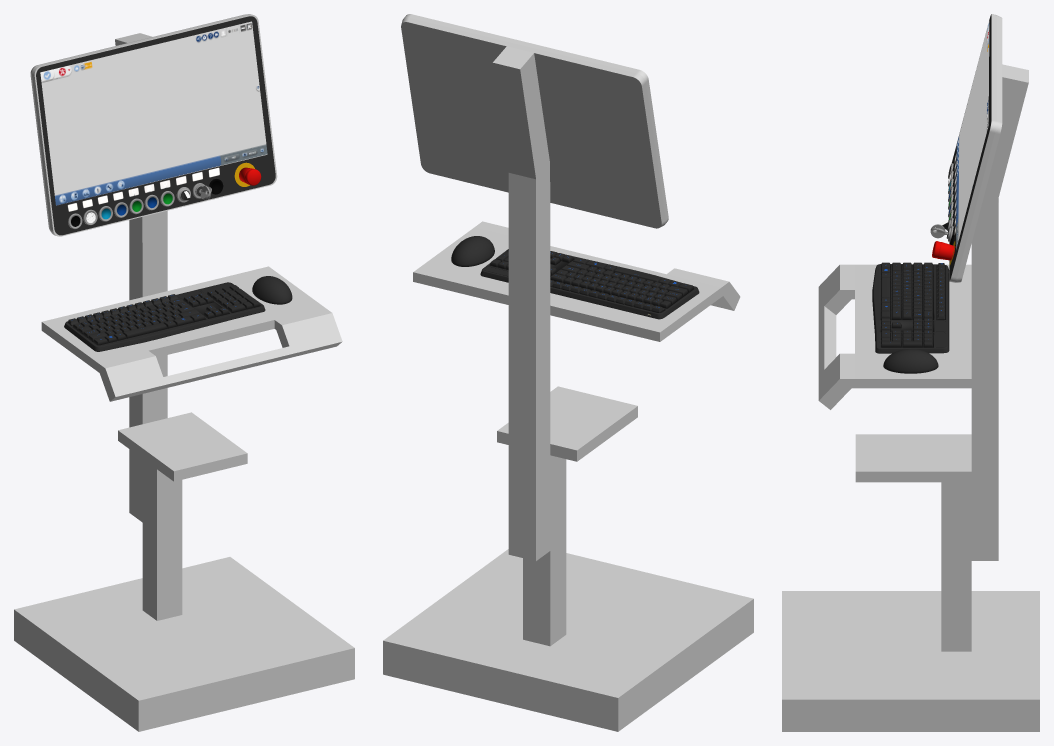
File: pulpito.glb
The picture shows the model from 3 angles, left to right: view 1: azimuth 30°, elevation 25°; view 2: azimuth 150°, elevation 25°; view 3: azimuth 270°, elevation 25°; orthographic projection. The views are drawn at different scales.
Visible parts, largest first — view 1: pulpito, schermo.001, pulsanti; view 2: pulpito; view 3: pulpito, schermo.001, pulsanti.
Boxes of the visible parts, x1=… form: pulpito: x1=14, y1=14, x2=354, y2=731; schermo.001: x1=40, y1=21, x2=267, y2=205; pulsanti: x1=67, y1=162, x2=254, y2=228; pulpito: x1=383, y1=14, x2=753, y2=731; pulpito: x1=782, y1=14, x2=1039, y2=731; schermo.001: x1=956, y1=21, x2=989, y2=249; pulsanti: x1=940, y1=153, x2=956, y2=265.
Size of the model in its own units: 0.5119 by 1.27 by 0.4873.
Materials: 33 (3 with a texture image).
